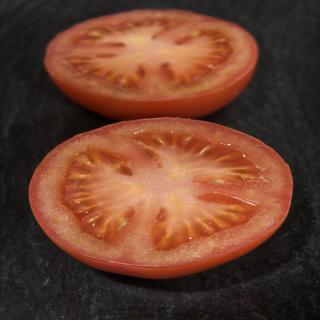tomato: (27, 116, 293, 278), (42, 5, 258, 119)
